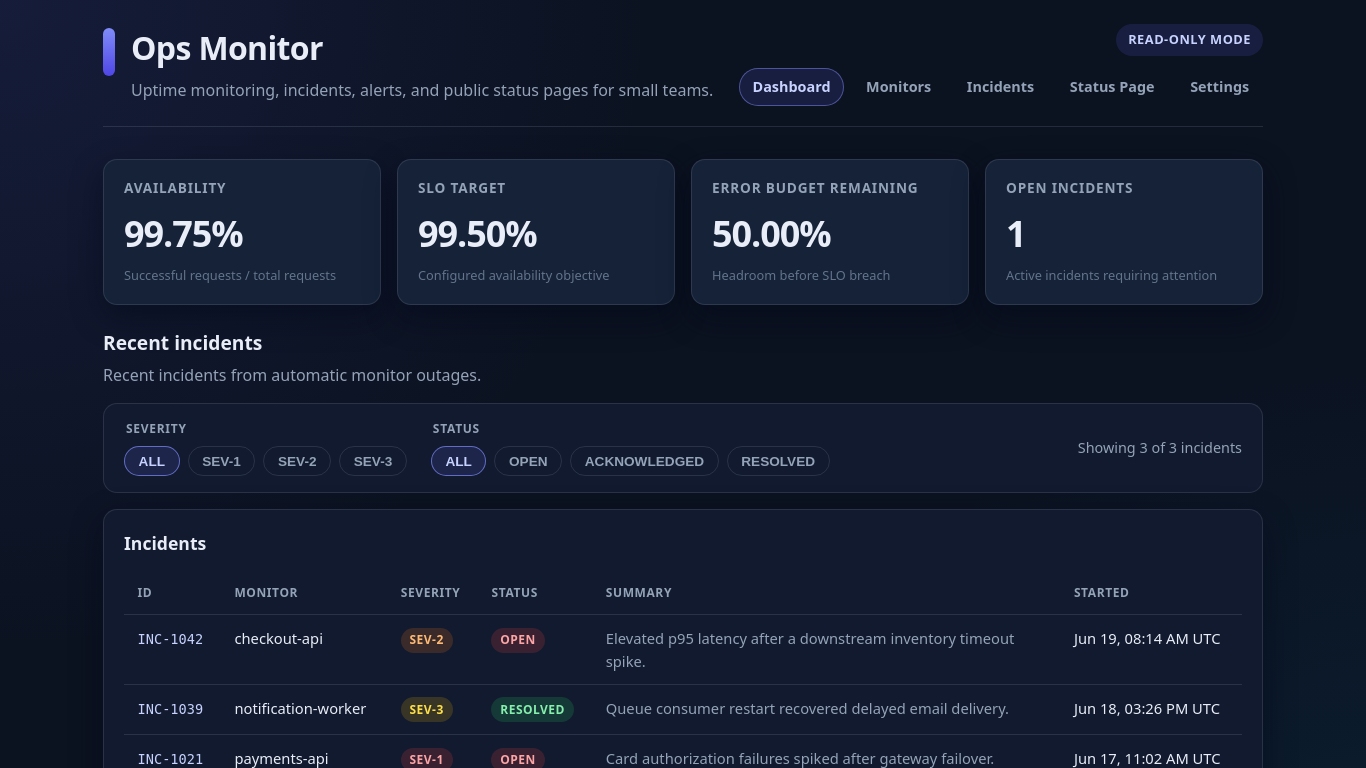
App › filters incidents through the mounted App
The image size is (1366, 768).
Click the button "SEV-2": [297, 461] box [263,446,331,476]
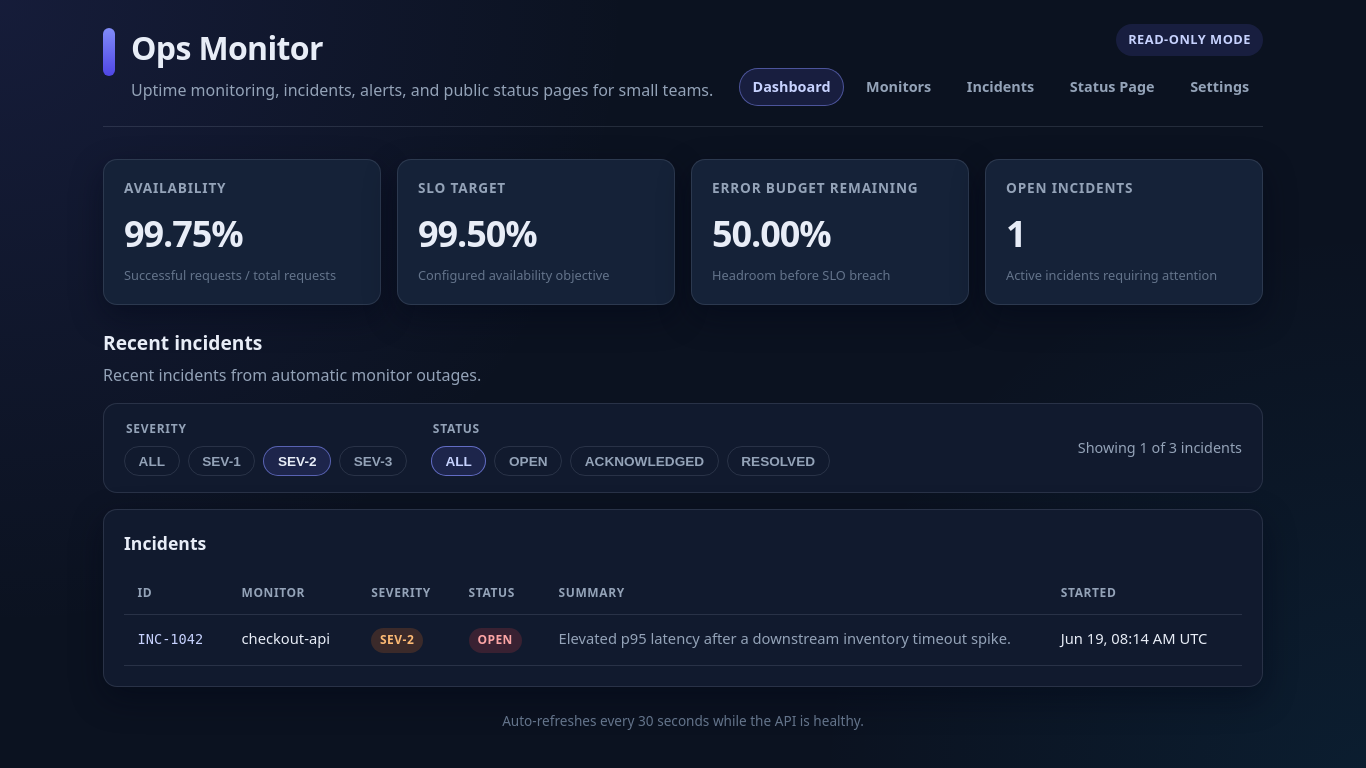
Expected: the text "INC-1042" is shown, [138,632,203,648]
Now the number of rows is 2, box [124,572,1242,615]; [124,616,1242,665]
Now the text "INC-1039" is gone
Click the button "OPEN": [528, 461] box [494,446,562,476]
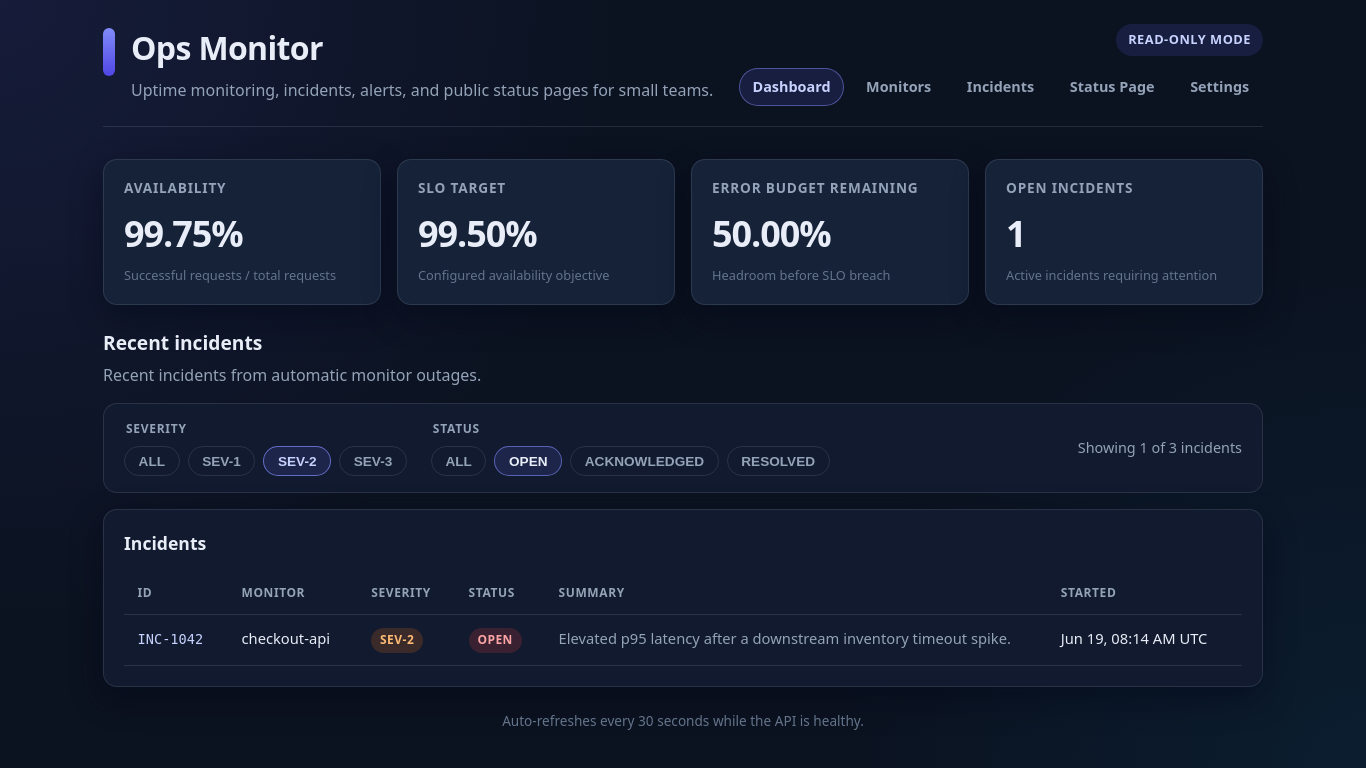
Expected: the text "INC-1042" is shown, [138,632,203,648]
Now the number of rows is 2, box [124,572,1242,615]; [124,616,1242,665]
Click the button "RESOLVED": [778, 461] box [727,446,830,476]
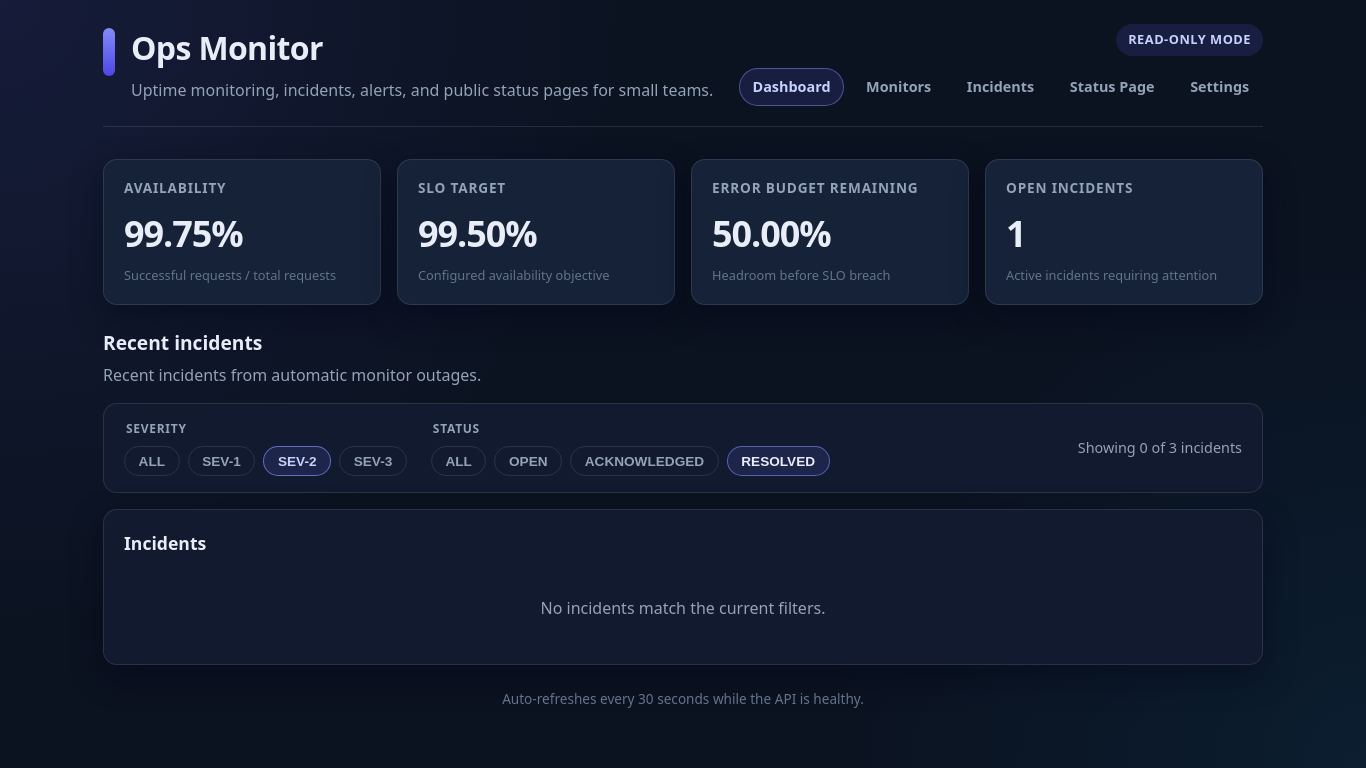
Now the message reads "No incidents match the current filters.", box [540,598,825,620]
